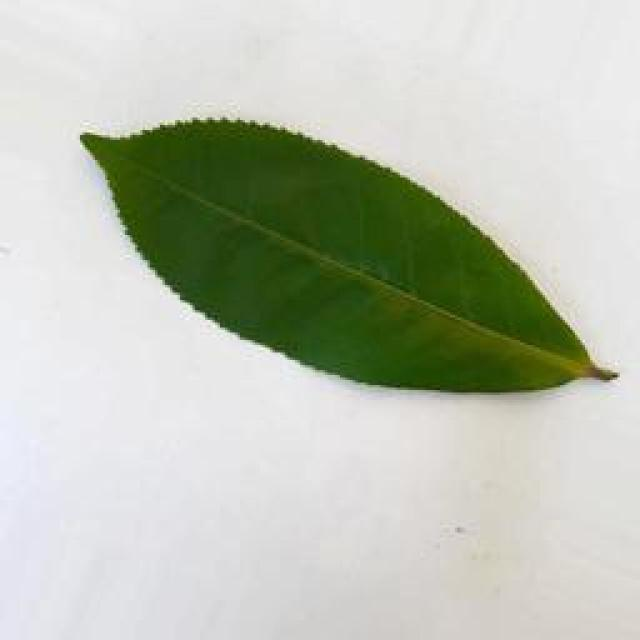Healthy: (76, 108, 624, 410)
